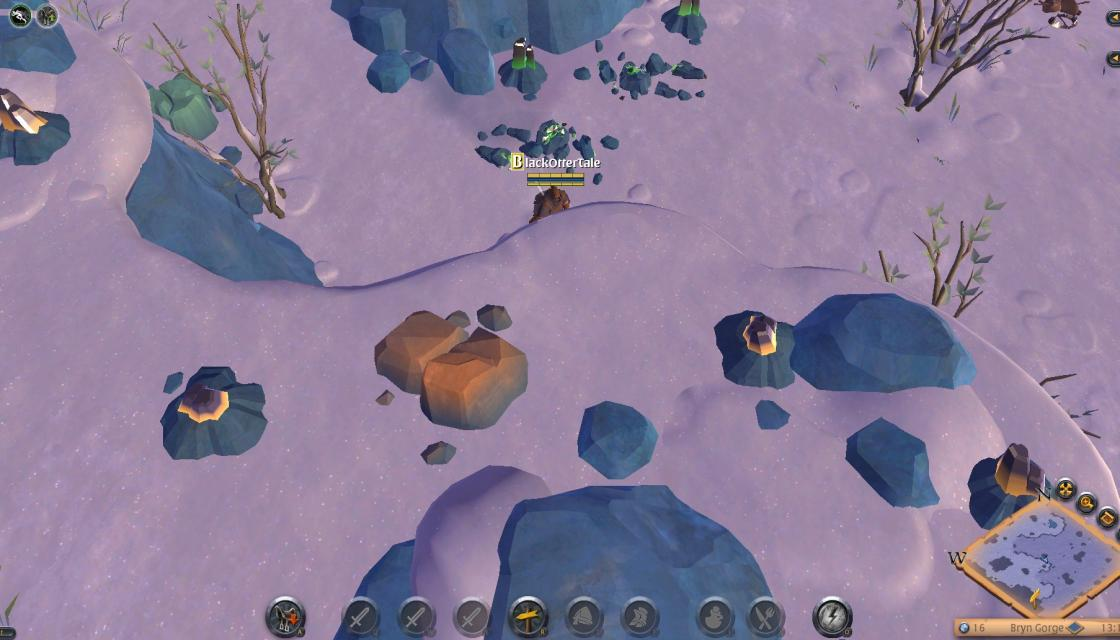copperore: (156, 365, 270, 460), (963, 436, 1055, 530), (704, 306, 800, 386), (0, 81, 74, 171)
limestone: (370, 298, 530, 432)
sandstone: (142, 66, 232, 144)
tinore: (490, 34, 556, 97), (659, 0, 710, 43)
